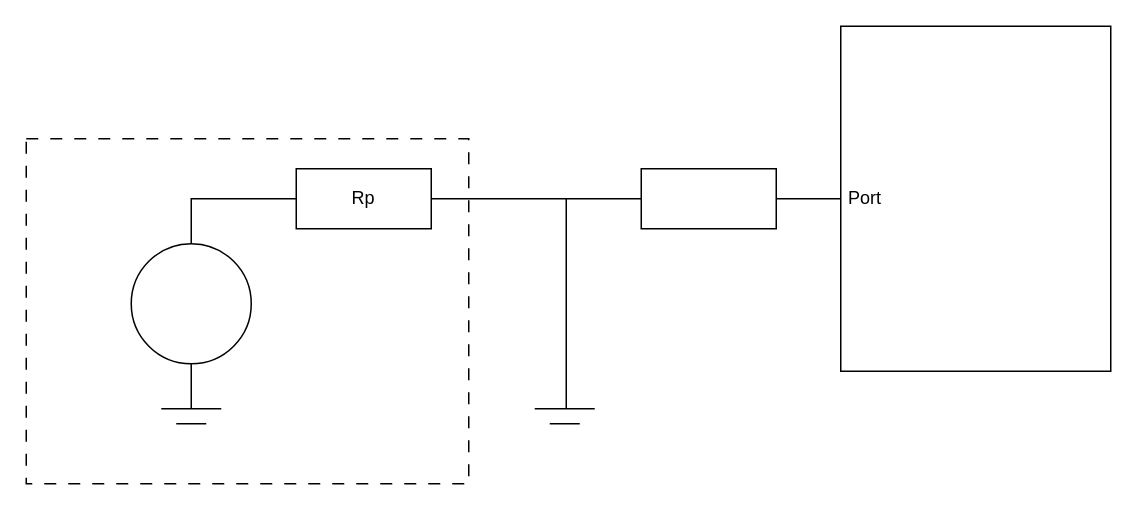
This 1137x510 diagram has some shape labels left out. The box of each missing label's shape, as (x1, y1, x2, y2) in pixels:
Rs: (640, 167, 776, 229)
Vp: (130, 242, 251, 364)
